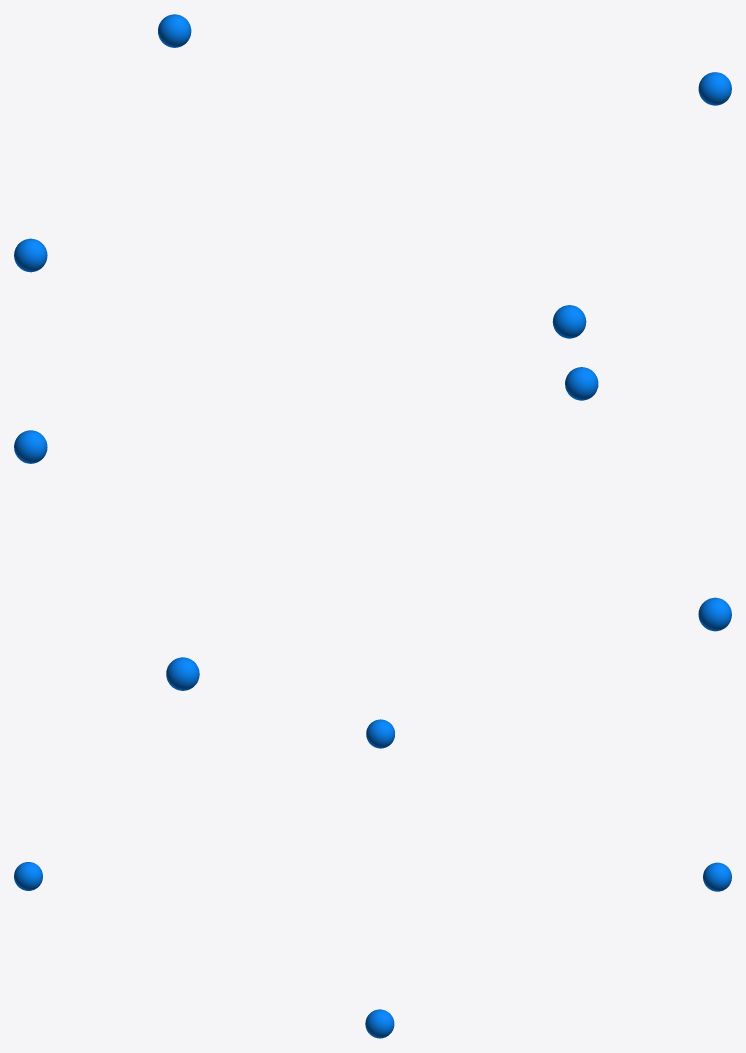
3 views of the same model, one above another, from view 1: azimuth 30°, elevation 25°; view 2: azimuth 150°, elevation 25°; view 3: azimuth 270°, elevation 25° (orthographic). The views are drawn at different scales.
Visible parts, largest first — view 1: Sphere052; view 2: Sphere052; view 3: Sphere052.
Boxes of the visible parts, <box> form: Sphere052: <box>14,14,731,338</box>; Sphere052: <box>14,367,731,690</box>; Sphere052: <box>14,719,731,1038</box>.
Bounding box in the file's own units: 202 × 8.22 × 203.
